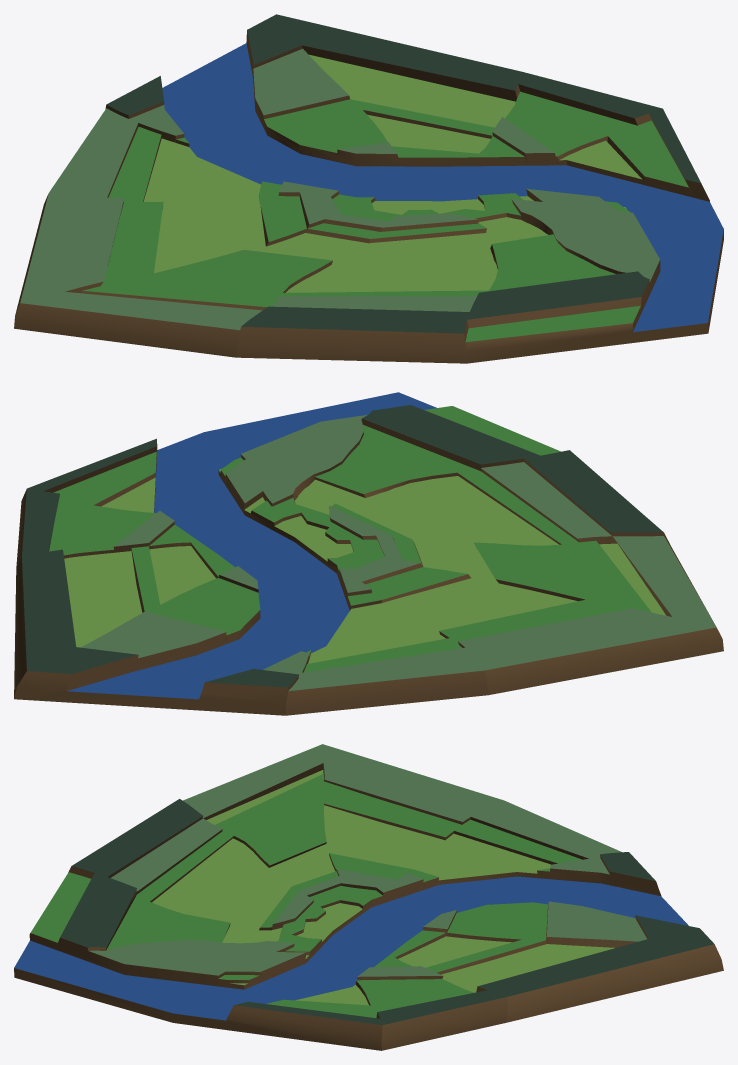
Rendered from grass-board.fbx.
The picture shows the model from 3 angles, top to bottom: view 1: azimuth 30°, elevation 25°; view 2: azimuth 150°, elevation 25°; view 3: azimuth 270°, elevation 25°; orthographic projection. The views are drawn at different scales.
Visible parts, largest first — view 1: pasted__pCylinder20; view 2: pasted__pCylinder20; view 3: pasted__pCylinder20.
Part boxes in pixels (left/top/right/bottom): pasted__pCylinder20: left=14, top=14, right=723, bottom=363; pasted__pCylinder20: left=14, top=392, right=723, bottom=715; pasted__pCylinder20: left=14, top=744, right=723, bottom=1050.
Bounding box in the file's own units: 391 × 14.63 × 405.
